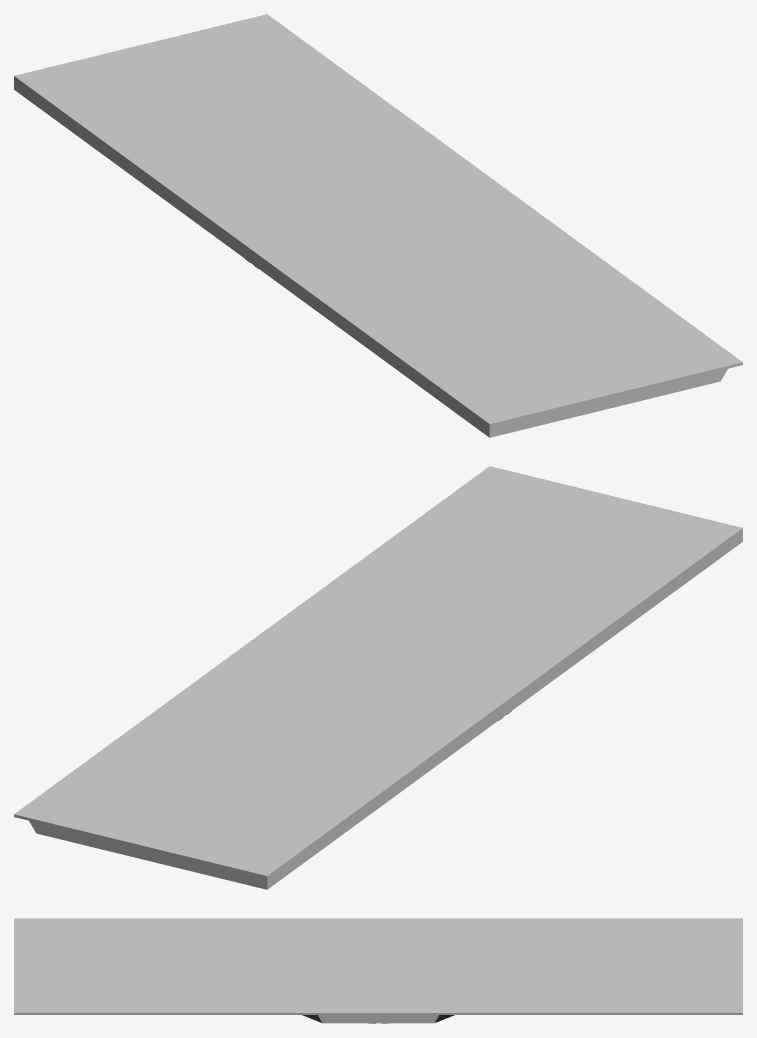
Rendered from SM_HangarRoof02.fbx.
3 views of the same model, one above another, from view 1: azimuth 30°, elevation 25°; view 2: azimuth 150°, elevation 25°; view 3: azimuth 270°, elevation 25° (orthographic). The views are drawn at different scales.
Parts seen in each view (by area): view 1: SM_HangarRoof02_LOD0; view 2: SM_HangarRoof02_LOD0; view 3: SM_HangarRoof02_LOD0.
Part boxes in pixels (left/top/right/bottom): SM_HangarRoof02_LOD0: left=14, top=14, right=742, bottom=437; SM_HangarRoof02_LOD0: left=14, top=466, right=742, bottom=889; SM_HangarRoof02_LOD0: left=14, top=918, right=742, bottom=1023.
Bounding box in the file's own units: 790 × 2570 × 52.58.
Materials: 2 (1 with a texture image).
